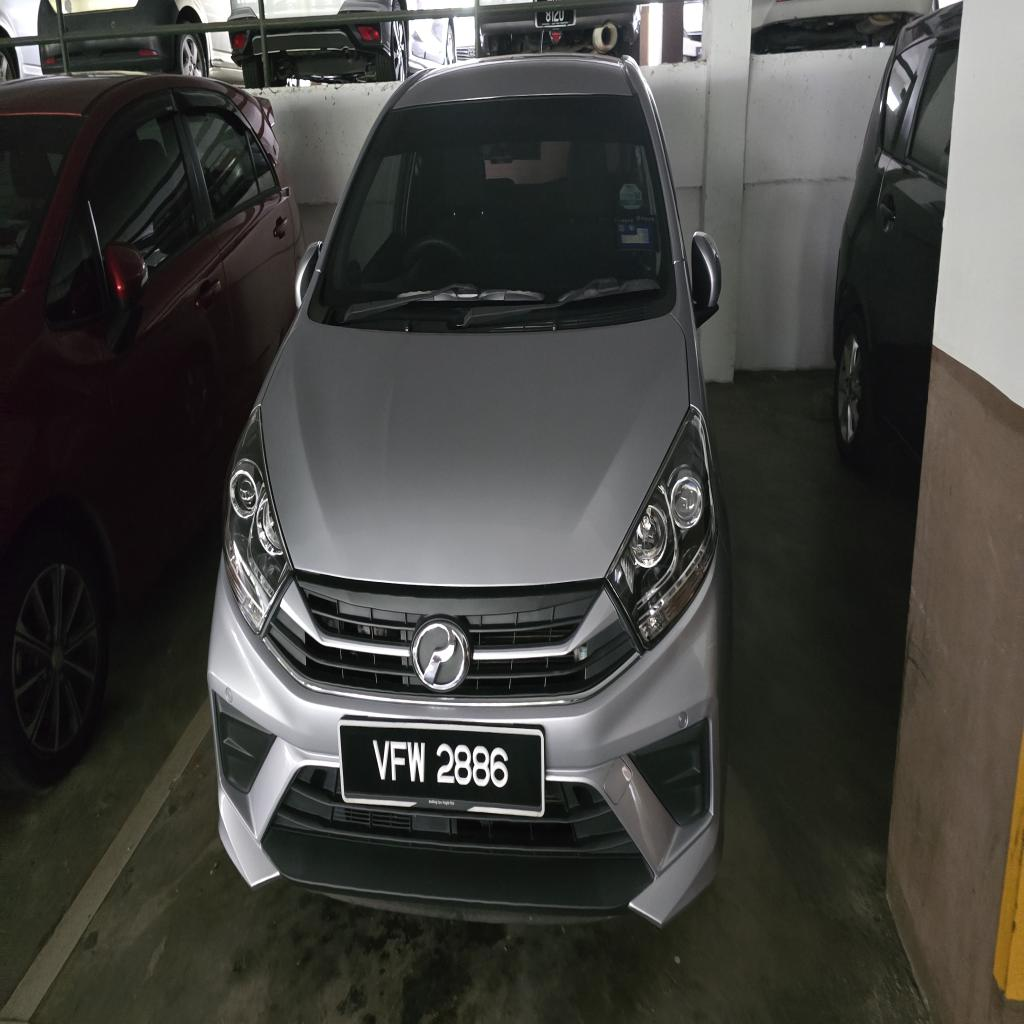car: (208, 56, 729, 923)
car plate: (339, 719, 545, 816)
